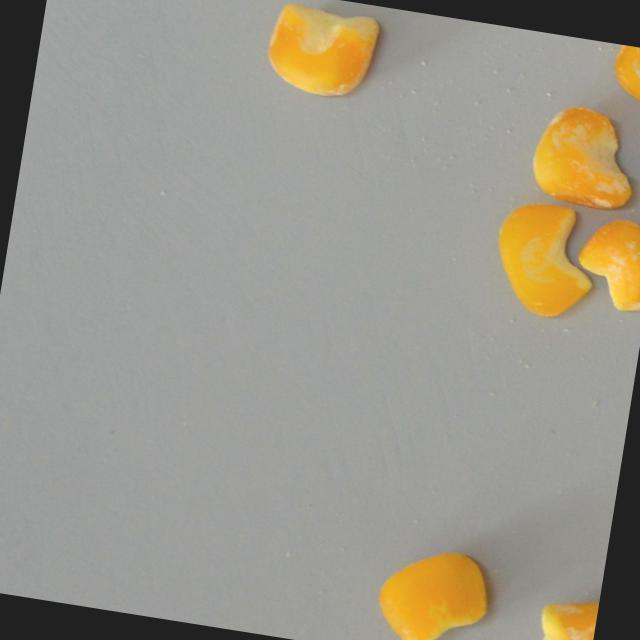no_canjicado: (486, 194, 603, 323), (371, 540, 495, 640)
pelicula: (526, 99, 640, 212), (261, 0, 381, 101), (570, 211, 640, 312), (532, 592, 599, 640), (609, 43, 640, 103)
